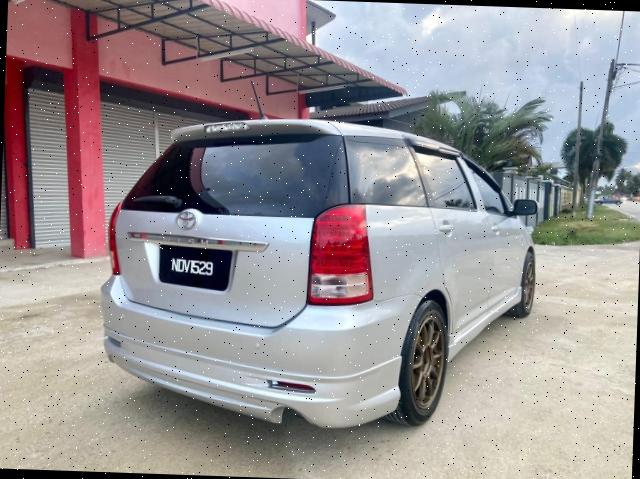License_Plate: (156, 245, 228, 287)
car: (94, 110, 553, 441)
